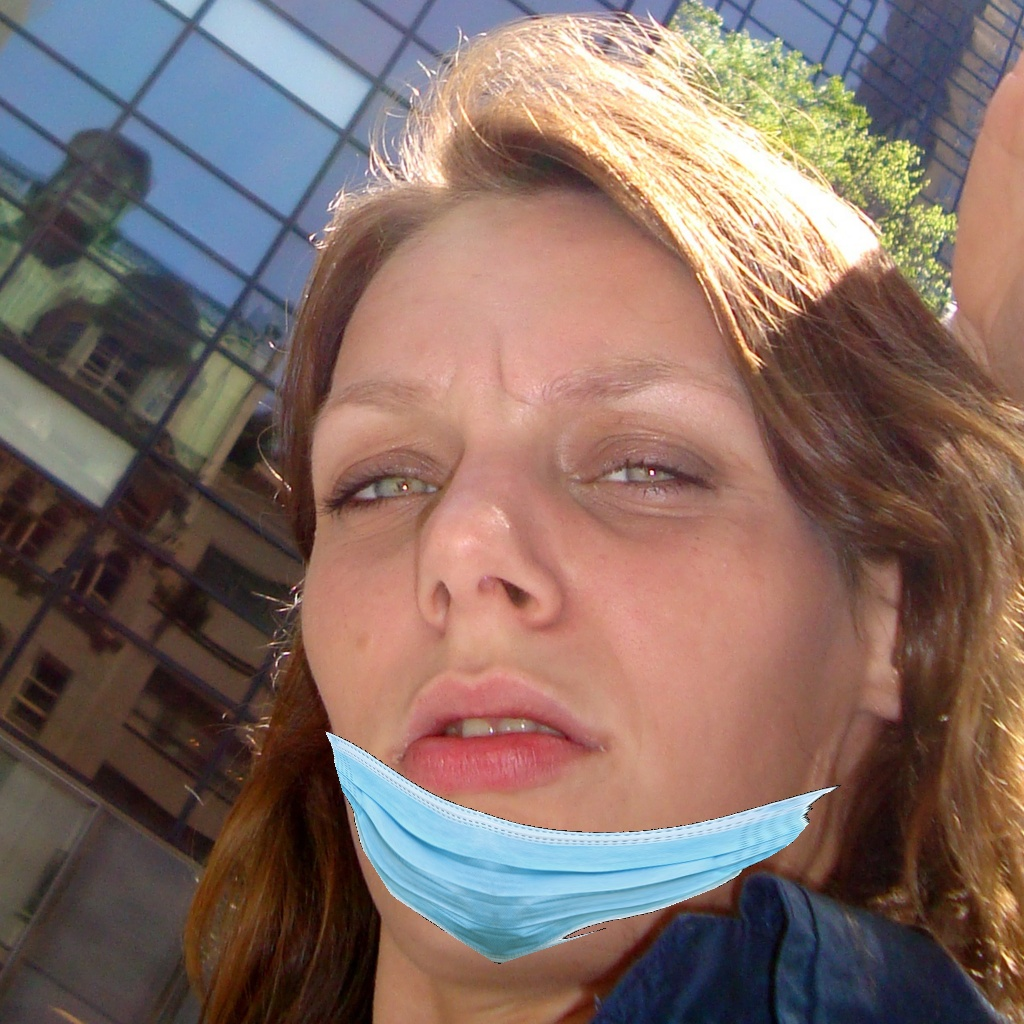Mask_Chin: (299, 368, 845, 967)
